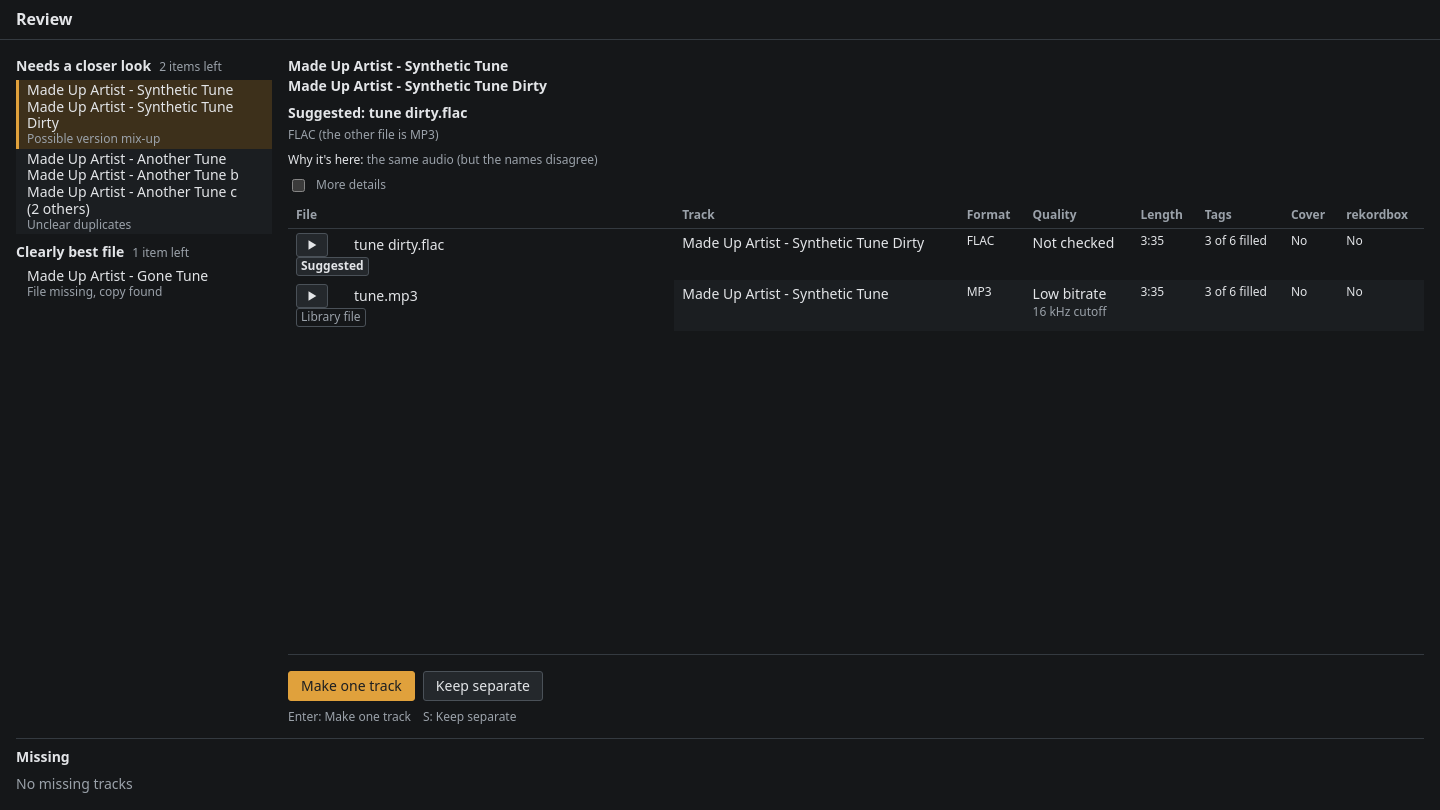
it: the Review queue › shows another item's files when it is selected
The image size is (1440, 810).
Step 1. Click the option "Made Up Artist - Gone Tune File missing, copy found" → point(118, 283), box [27,266,208,300]
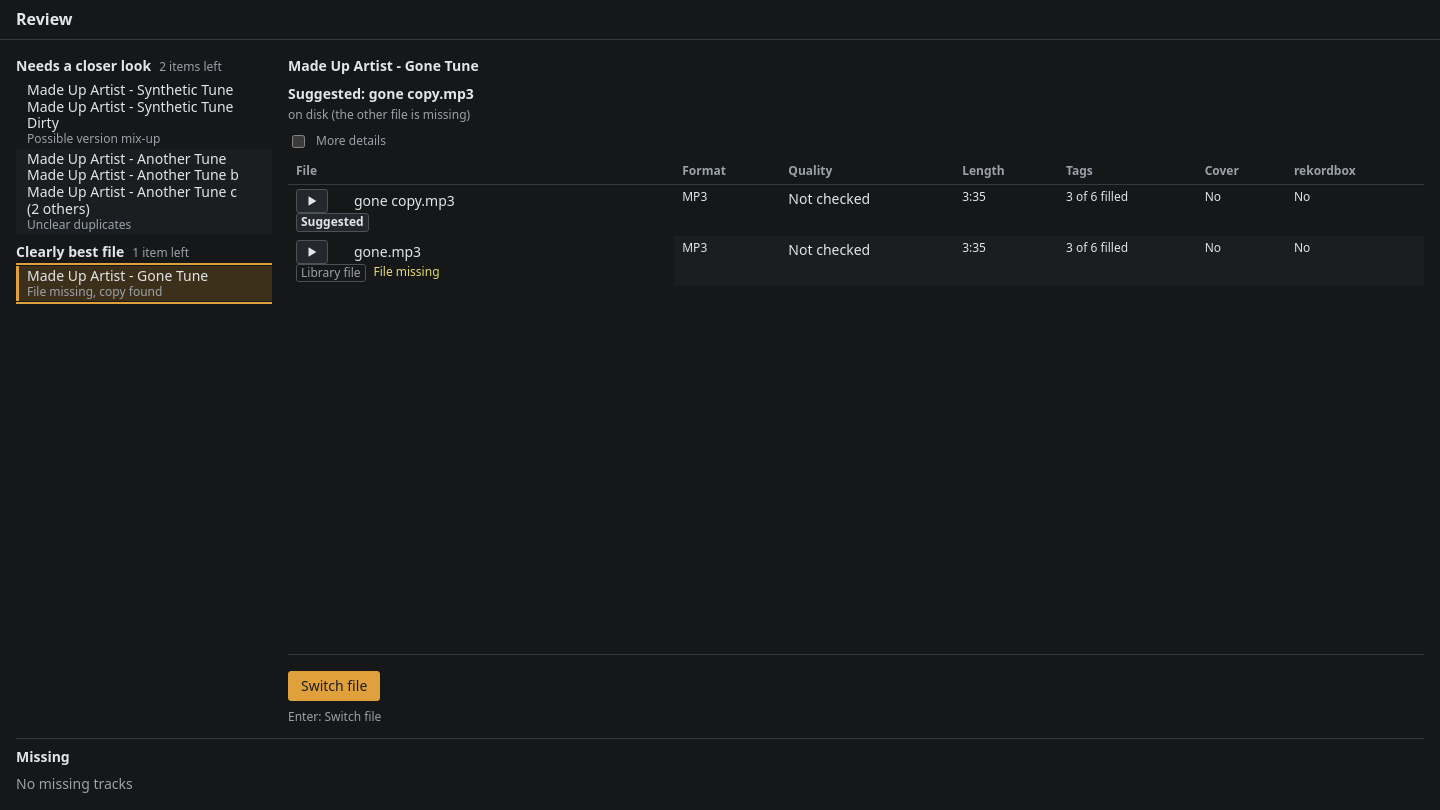
Now the row that starts with "gone copy.mp3" is shown, box [354,191,455,210]
Now the text "on disk (the other file is missing)" is shown, box [288,106,470,123]
Now the row that starts with "gone.mp3" shows "File missing", box [374,263,440,280]
